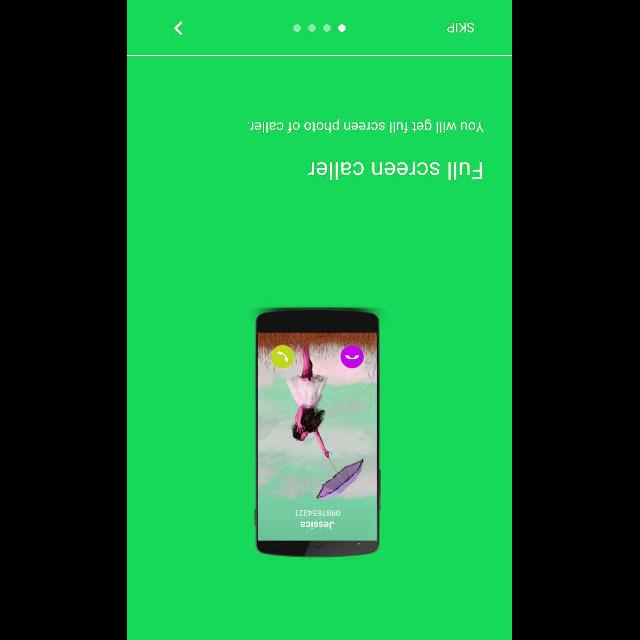icon: (174, 21, 183, 35)
image: (255, 307, 382, 557)
pageindicator: (294, 24, 346, 32)
text: (248, 119, 486, 133), (308, 162, 484, 180), (448, 22, 474, 32)
